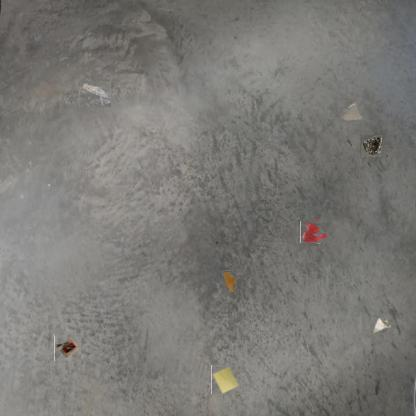dirty: (211, 365, 241, 394), (79, 81, 111, 107), (54, 335, 81, 361), (339, 99, 363, 123), (360, 135, 382, 157), (371, 315, 391, 335)
liquid: (302, 220, 326, 245), (222, 270, 236, 292)
